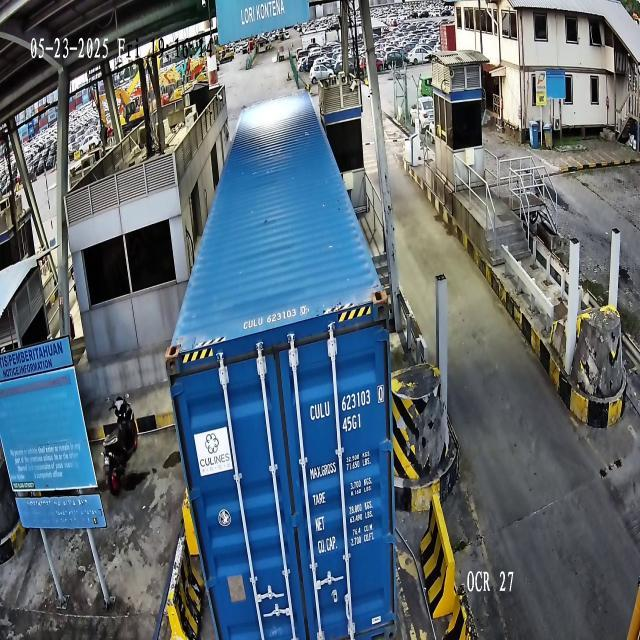ISO: (342, 410, 364, 434)
container_number: (308, 383, 388, 424)
